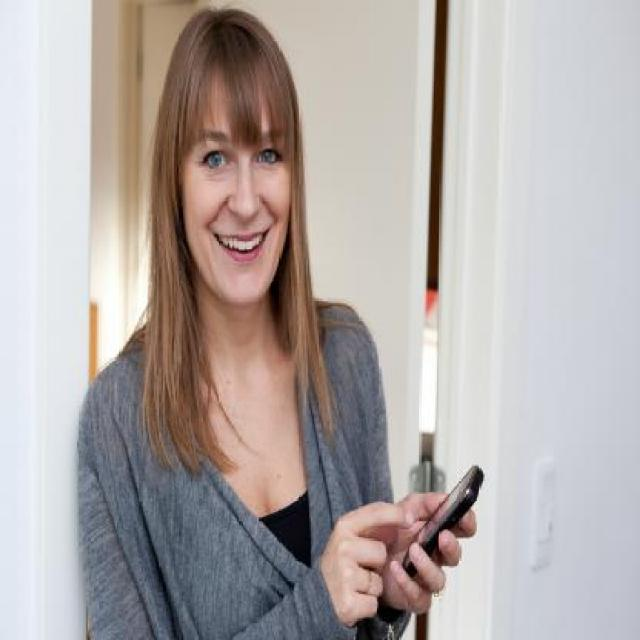phone: (399, 464, 484, 573)
